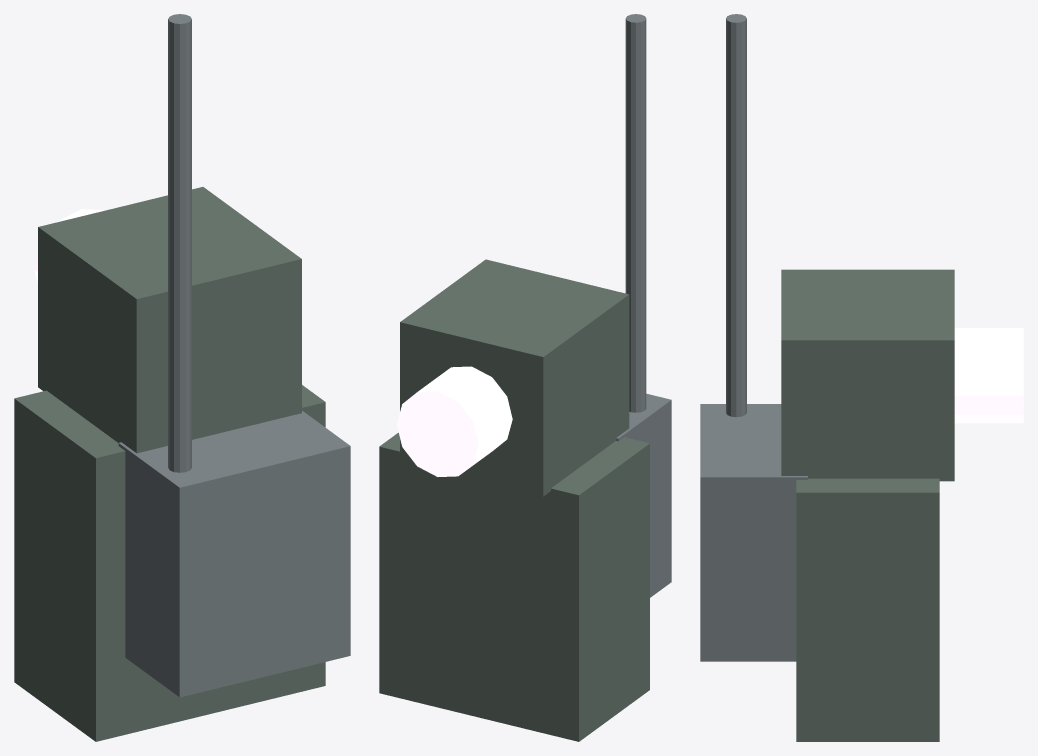
Rendered from spotter.glb.
3 views of the same model, side by side, from view 1: azimuth 30°, elevation 25°; view 2: azimuth 150°, elevation 25°; view 3: azimuth 270°, elevation 25° (orthographic). The views are drawn at different scales.
Visible parts, largest first — view 1: CommsPack, Hood, Torso, WhipAntenna; view 2: Torso, Hood, DesignatorLens, WhipAntenna, CommsPack; view 3: Torso, Hood, CommsPack, WhipAntenna, DesignatorLens.
Boxes of the visible parts, x1,y1,x2,y2 form: CommsPack: (118, 410, 350, 697); Hood: (38, 187, 301, 453); Torso: (14, 385, 325, 741); WhipAntenna: (168, 14, 191, 472); Torso: (379, 432, 649, 741); Hood: (400, 259, 629, 496); DesignatorLens: (396, 366, 512, 476); WhipAntenna: (625, 14, 646, 412); CommsPack: (616, 393, 671, 597); Torso: (796, 478, 939, 741); Hood: (781, 269, 954, 481); CommsPack: (700, 404, 807, 661); WhipAntenna: (726, 14, 746, 417); DesignatorLens: (954, 328, 1023, 423).
Size of the model in its own units: 0.78 by 2.39 by 1.08.
